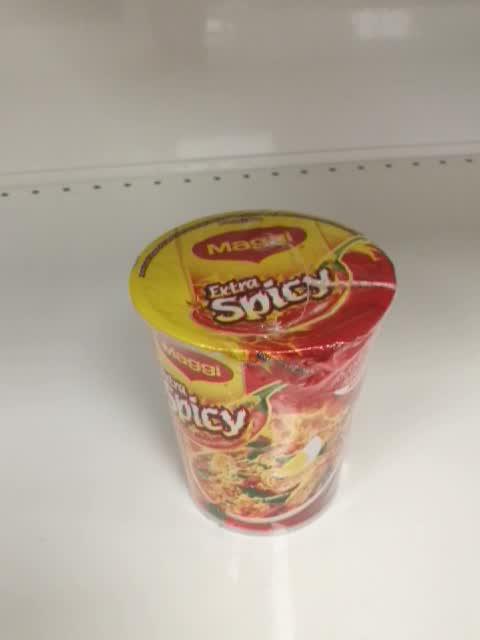maggi: (127, 208, 396, 539)
